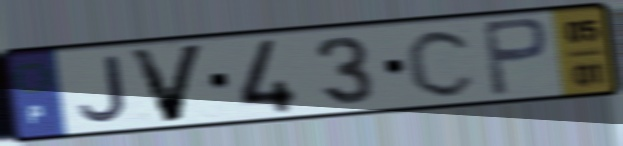3: (313, 34, 379, 106)
4: (237, 36, 302, 116)
C: (403, 26, 480, 100)
J: (75, 53, 131, 125)
P: (478, 15, 553, 99)
V: (124, 41, 210, 126)
